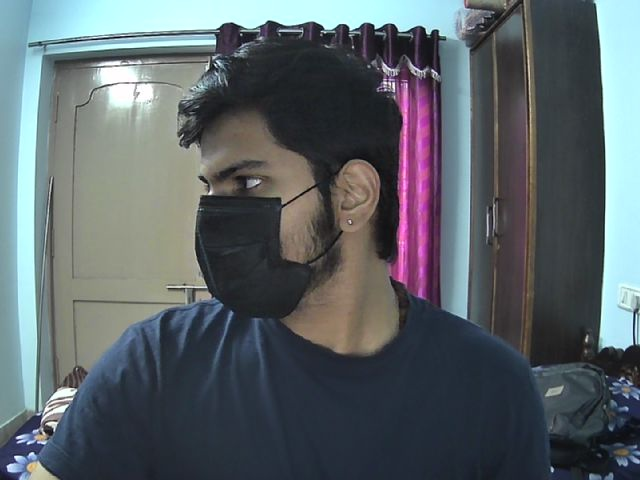Mask: (195, 196, 349, 316)
